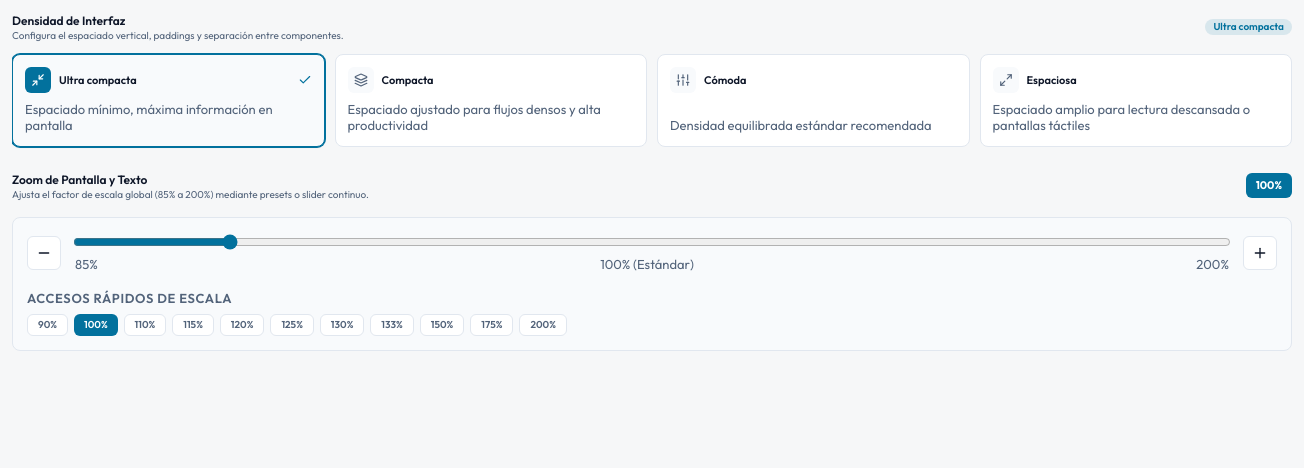
DensityZoomSelector Component › allows resetting zoom to 100% with reset button
Click the button named "Establecer zoom a 130%" at (342,325), box left=320, top=314, right=364, bottom=336
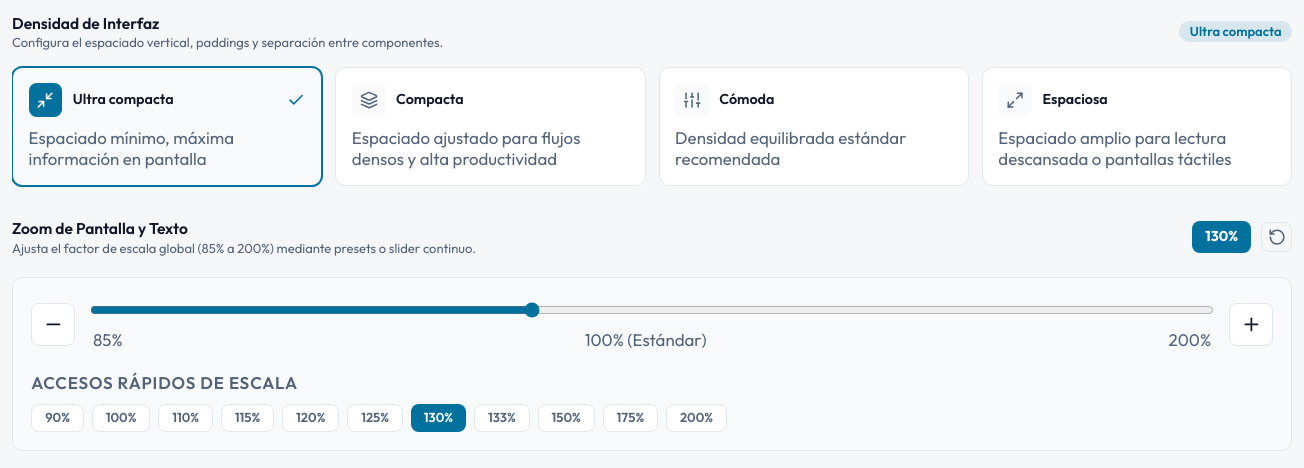
Check: the text with test id "zoom-percentage-badge" reads "130%", box left=1192, top=221, right=1251, bottom=253
Click the button named "Restablecer zoom a 100%" at (1277,237), box left=1261, top=222, right=1292, bottom=252
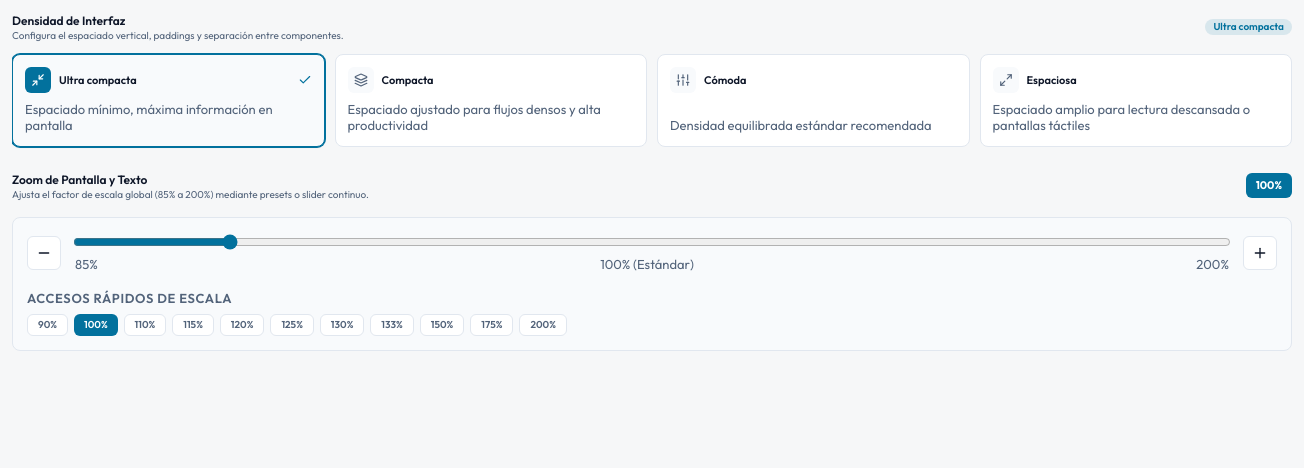
Check: the text with test id "zoom-percentage-badge" reads "100%", box left=1246, top=173, right=1292, bottom=198
